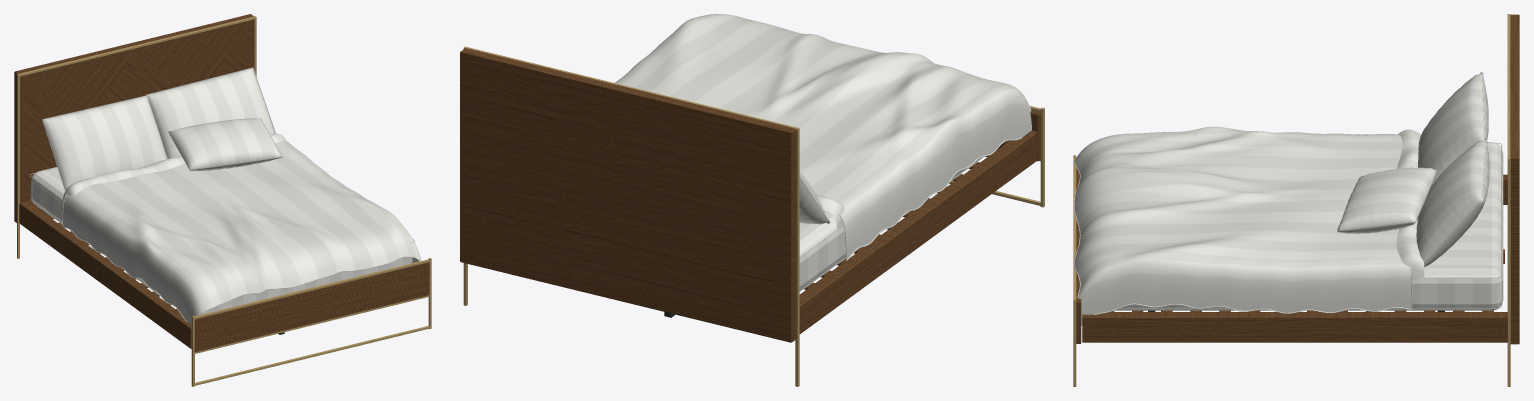
The picture shows the model from 3 angles, left to right: view 1: azimuth 30°, elevation 25°; view 2: azimuth 150°, elevation 25°; view 3: azimuth 270°, elevation 25°; orthographic projection. The views are drawn at different scales.
Parts seen in each view (by area): view 1: SIENNA LV463-B01 | LV463-B01-01 optimized; view 2: SIENNA LV463-B01 | LV463-B01-01 optimized; view 3: SIENNA LV463-B01 | LV463-B01-01 optimized.
Boxes of the visible parts, x1,y1,x2,y2 form: SIENNA LV463-B01 | LV463-B01-01 optimized: (14,14,431,386); SIENNA LV463-B01 | LV463-B01-01 optimized: (460,14,1044,386); SIENNA LV463-B01 | LV463-B01-01 optimized: (1073,14,1519,386).
Size of the model in its own units: 1.63 by 1.2 by 2.13.
7 materials, 4 textured.
